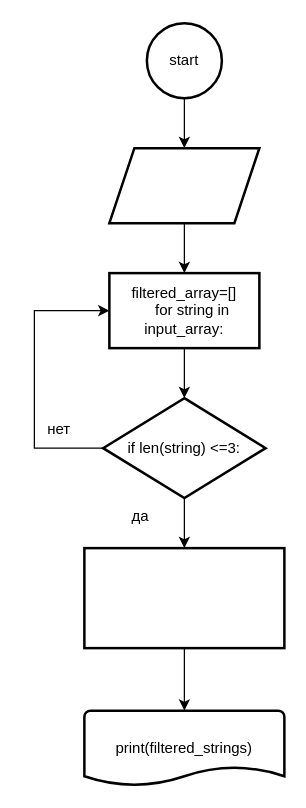
Image size: 306x808. Some labels were removed from this diagram. Here are the shapes that lost their labels. From the top down, the centre of each, then its label:
At (x=184, y=185): "input array".
At (x=183, y=597): "filtered_array.append(string)".
